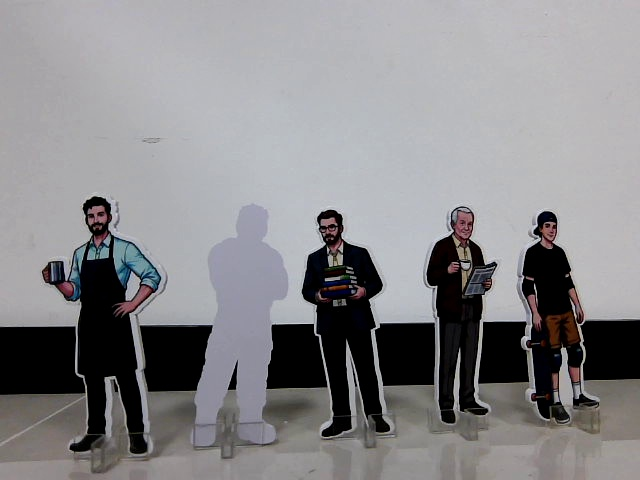community_person: (36, 189, 177, 474), (295, 201, 399, 453), (512, 201, 604, 439), (416, 198, 503, 443)
